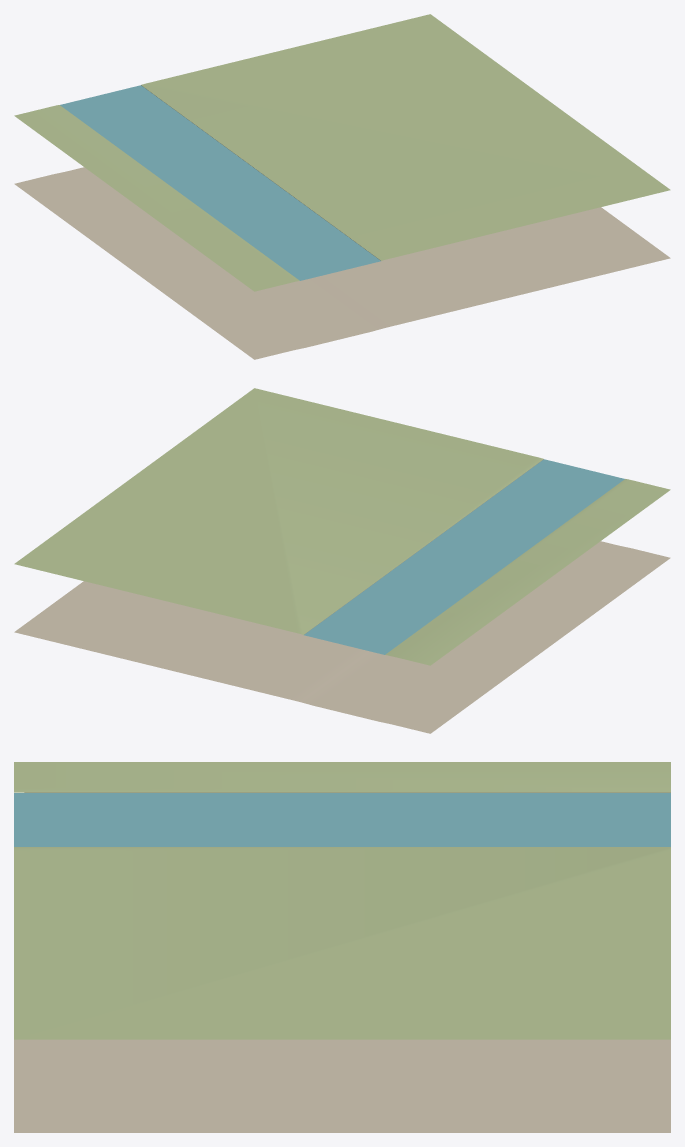
3 views of the same model, one above another, from view 1: azimuth 30°, elevation 25°; view 2: azimuth 150°, elevation 25°; view 3: azimuth 270°, elevation 25° (orthographic). The views are drawn at different scales.
Visible parts, largest first — view 1: s_11_5__grass, s_11_5__soil, s_11_5__water; view 2: s_11_5__grass, s_11_5__soil, s_11_5__water; view 3: s_11_5__grass, s_11_5__soil, s_11_5__water, s_11_5__shore_bank.
Part boxes in pixels (x1,y1,x2,y2): s_11_5__grass: (14,14,670,291); s_11_5__soil: (14,167,670,359); s_11_5__water: (60,85,380,280); s_11_5__grass: (14,388,670,665); s_11_5__soil: (14,541,670,733); s_11_5__water: (304,459,624,654); s_11_5__grass: (14,762,670,1039); s_11_5__soil: (14,1039,670,1132); s_11_5__water: (14,793,670,846); s_11_5__shore_bank: (24,792,670,792).
Bounding box in the file's own units: 128 × 20.14 × 128.
